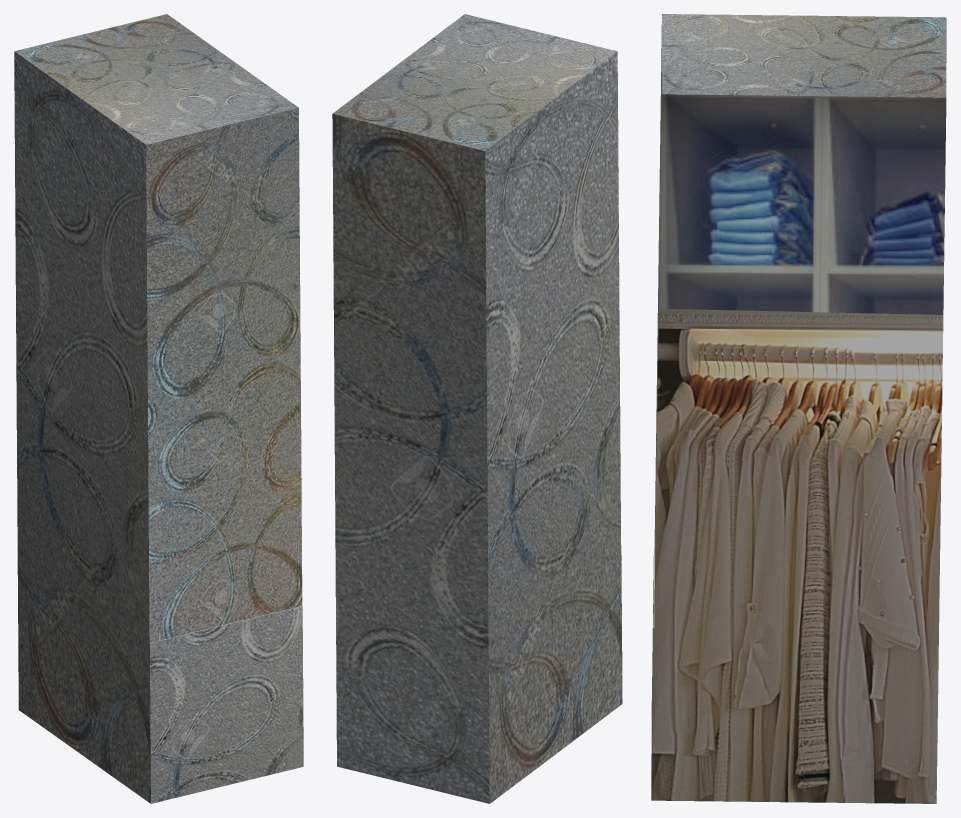
File: clothshelf1.glb
3 views of the same model, side by side, from view 1: azimuth 30°, elevation 25°; view 2: azimuth 150°, elevation 25°; view 3: azimuth 270°, elevation 25° (orthographic). The views are drawn at different scales.
Visible parts, largest first — view 1: Cube; view 2: Cube; view 3: Cube.
Part boxes in pixels (<box>): Cube: <box>14,14,303,803</box>; Cube: <box>332,14,622,803</box>; Cube: <box>651,14,946,803</box>.
Bounding box in the file's own units: 2 × 8.24 × 3.11.
4 materials, 3 textured.
